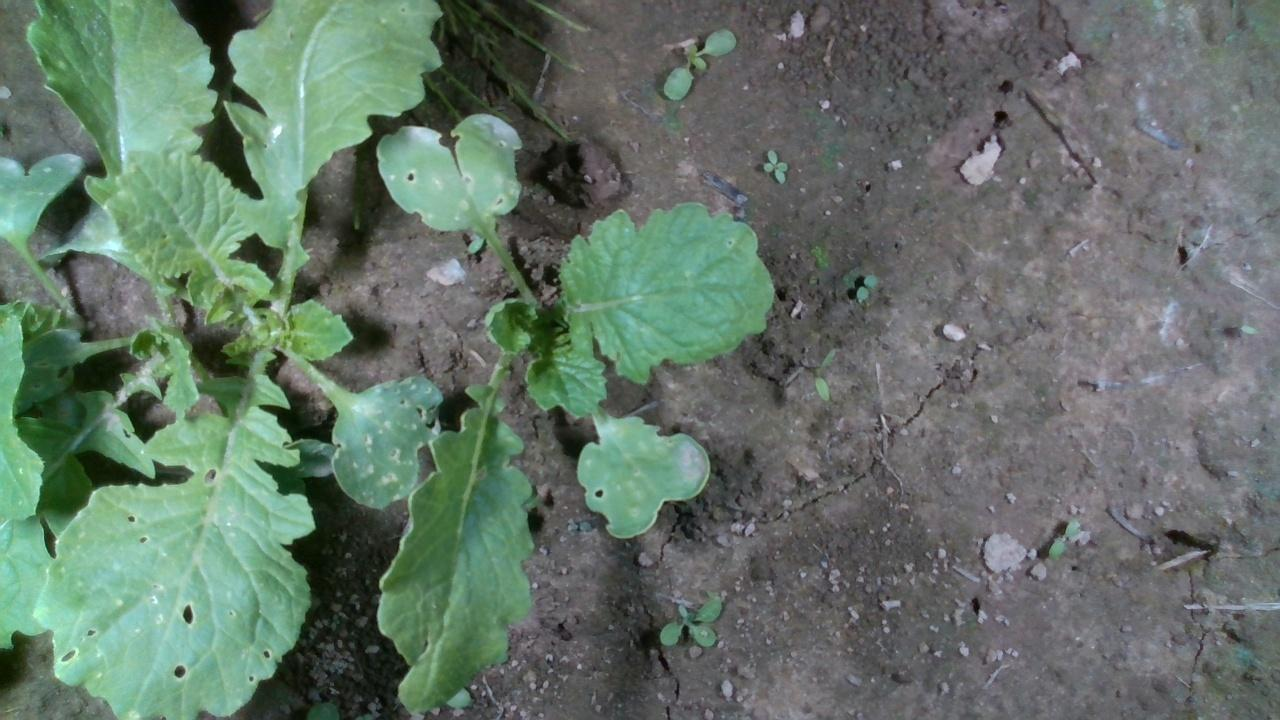weed: (661, 26, 734, 102), (656, 595, 722, 653), (1047, 517, 1081, 560), (759, 146, 788, 186), (855, 272, 876, 300)
